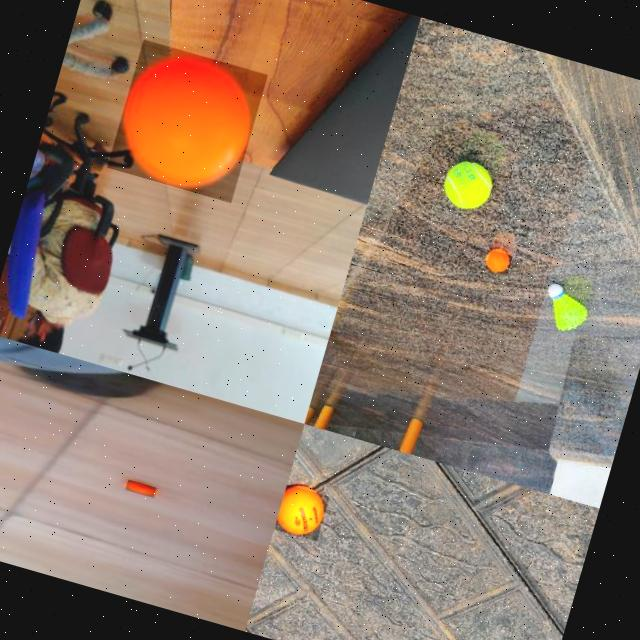ping-pong-ball: (105, 36, 266, 202), (273, 480, 329, 540), (483, 246, 512, 274), (122, 478, 156, 496)
